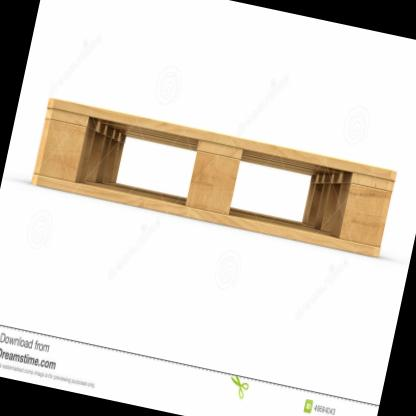BoxFace: (30, 95, 399, 263)
